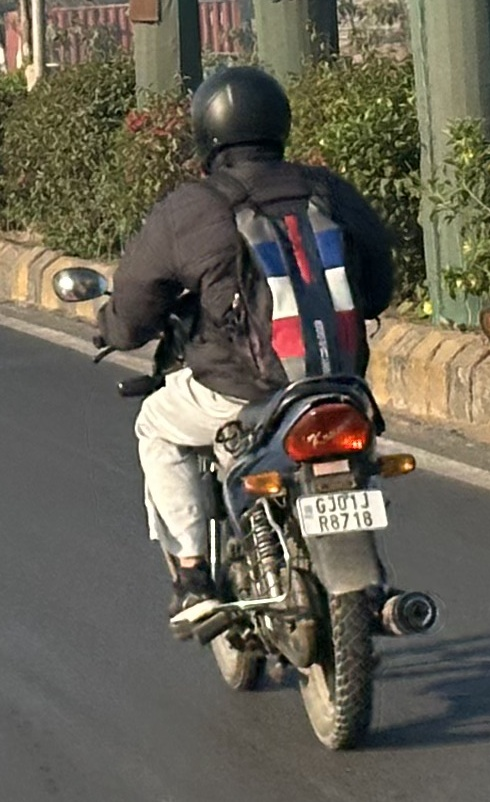BikeWithRider: (41, 52, 451, 771)
Helmet: (178, 56, 296, 186)
